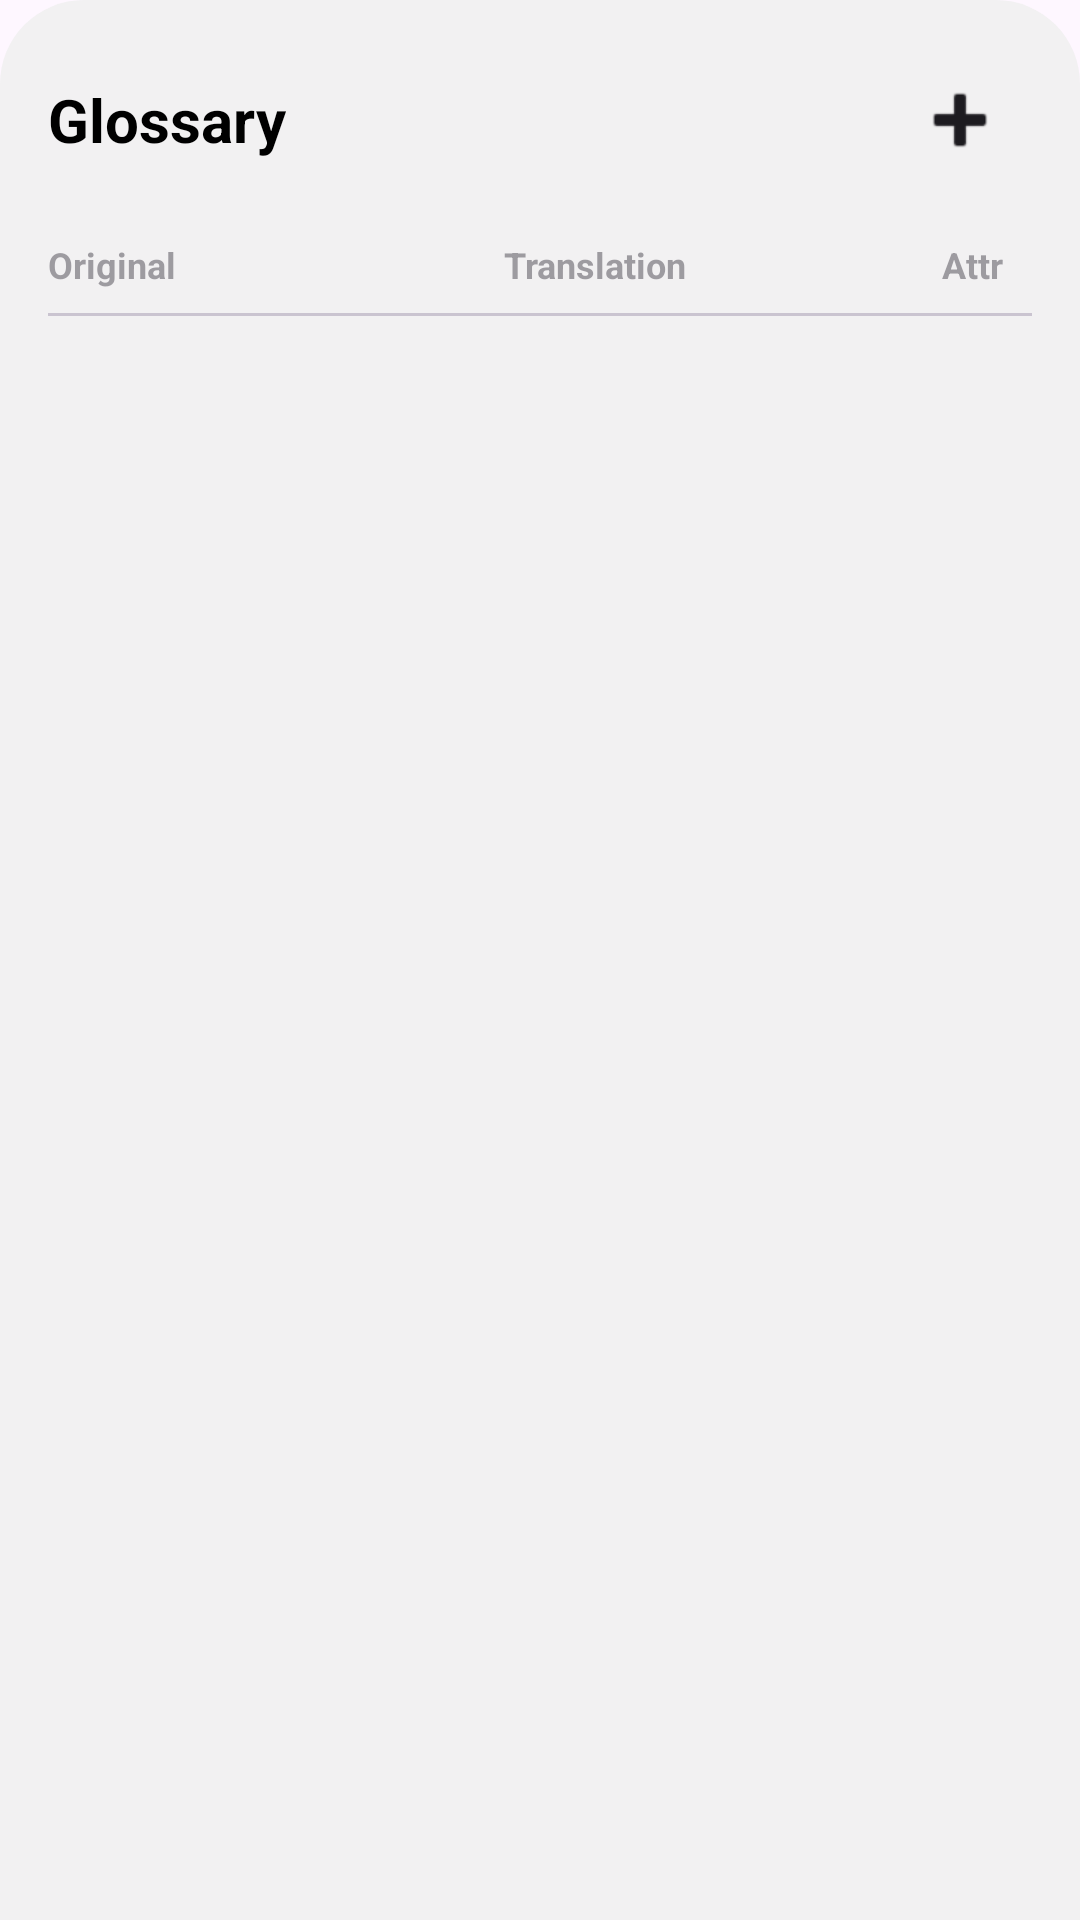

Named icons in this screenshot (1080 x 1920) and their bounding boxes, [left=x1, top=y1, right=x2, bottom=y2]:
add: [left=933, top=93, right=987, bottom=147]
